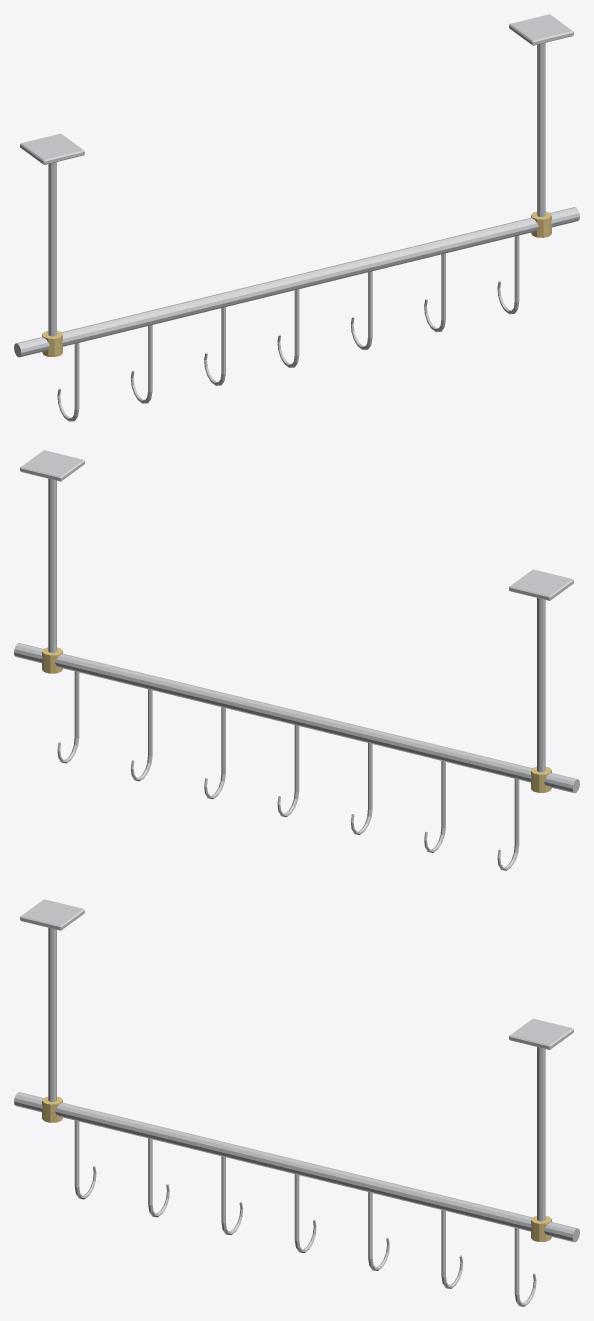
File: butchers-shop-and-deli-counter-hanging-rail-with-hooks-fd368403__34433.glb
3 renders of one model, top to bottom at view 1: azimuth 30°, elevation 25°; view 2: azimuth 150°, elevation 25°; view 3: azimuth 330°, elevation 25°, orthographic.
Visible parts, largest first — view 1: hanging-rail-with-hooks; view 2: hanging-rail-with-hooks; view 3: hanging-rail-with-hooks.
Part boxes in pixels (x1,y1,x2,y2): hanging-rail-with-hooks: (14, 14, 579, 421); hanging-rail-with-hooks: (14, 450, 579, 870); hanging-rail-with-hooks: (14, 899, 579, 1306).
Bounding box in the file's own units: 1.6 × 0.7823 × 0.1533.
